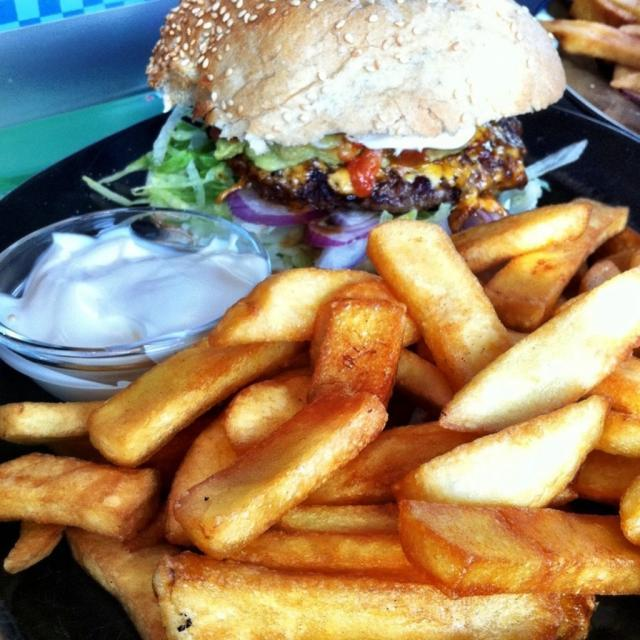Hamburger: (79, 0, 588, 284)
